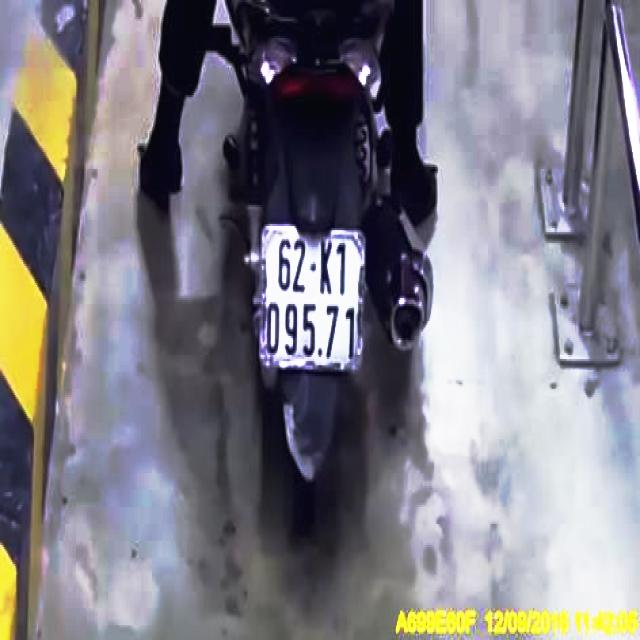license_plate: (262, 231, 365, 369)
